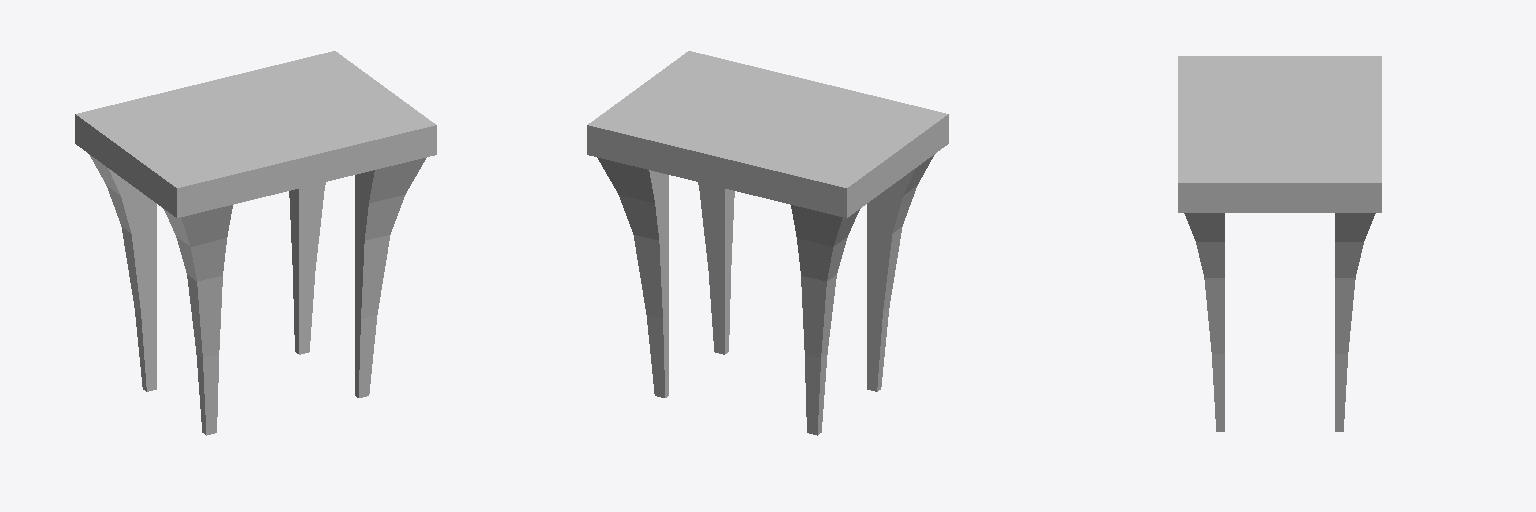
The picture shows the model from 3 angles: view 1: azimuth 30°, elevation 25°; view 2: azimuth 150°, elevation 25°; view 3: azimuth 270°, elevation 25°; orthographic projection.
Parts seen in each view (by area): view 1: Side_Table__Side_Table; view 2: Side_Table__Side_Table; view 3: Side_Table__Side_Table.
Boxes of the visible parts, x1,y1,x2,y2 form: Side_Table__Side_Table: [75, 51, 436, 435]; Side_Table__Side_Table: [587, 51, 948, 435]; Side_Table__Side_Table: [1178, 56, 1381, 431].
Size of the model in its own units: 8.45 by 8.48 by 5.73.